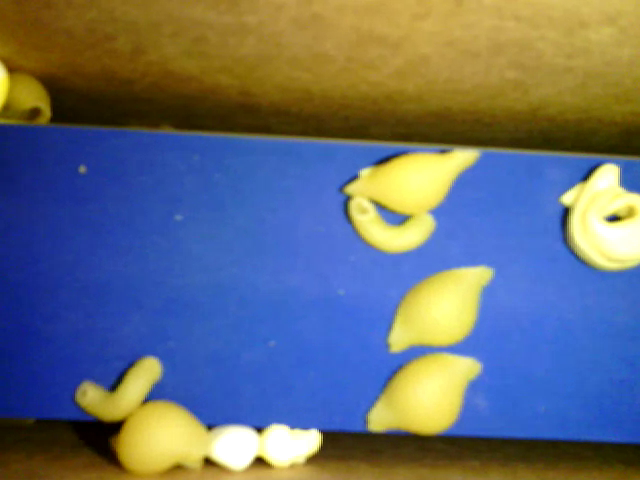elbow: (77, 354, 162, 423), (350, 195, 436, 256)
shell: (387, 262, 499, 355), (340, 148, 486, 218), (367, 352, 482, 438), (114, 402, 208, 473), (2, 70, 52, 133)
tortellini: (553, 159, 638, 277)
